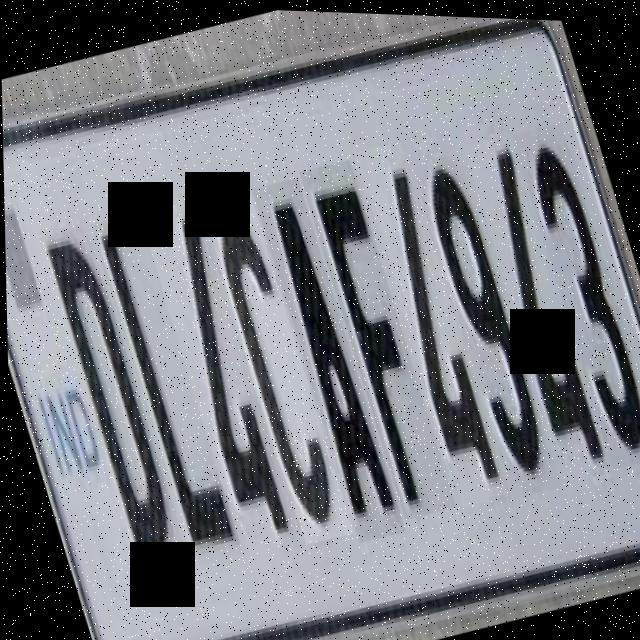3: (511, 116, 640, 465)
4: (141, 189, 299, 550), (354, 137, 508, 506), (463, 128, 613, 488)
9: (412, 151, 559, 496)
A: (250, 174, 403, 541)
C: (200, 183, 352, 543)
D: (37, 223, 187, 573)
F: (298, 155, 454, 518)
L: (89, 209, 237, 557)
